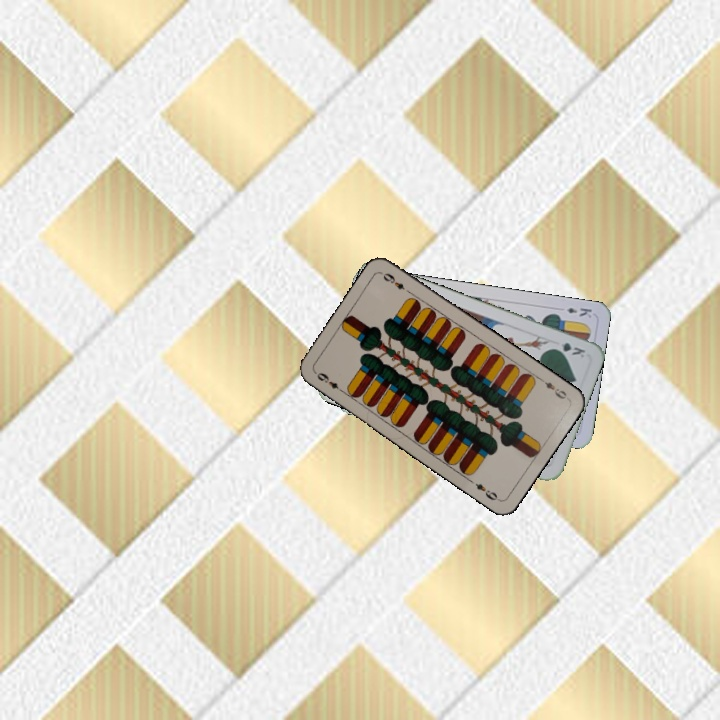E9: (536, 374, 571, 402), (313, 368, 347, 396)
EK: (562, 303, 594, 320)
GK: (548, 338, 588, 360)
